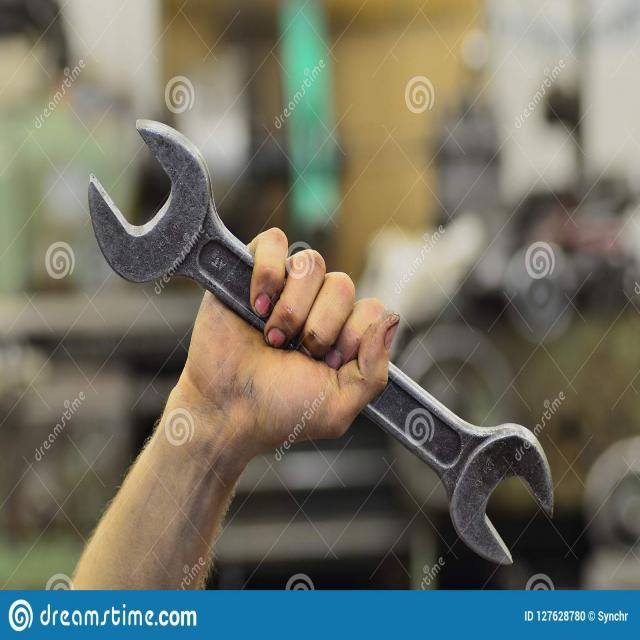wrench: (86, 112, 556, 574)
